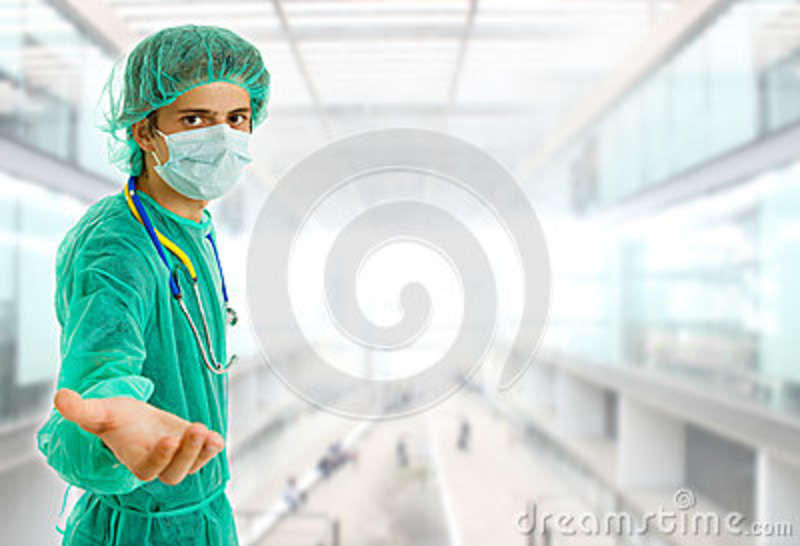mask: (160, 128, 256, 205)
